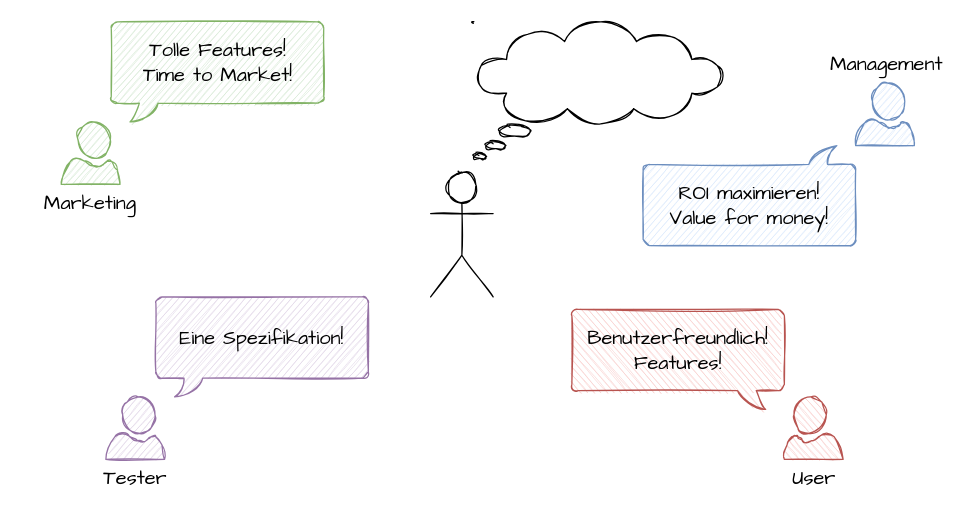
Some shapes in this 976 by 519 pixel diagram are drawn without their labels. The centre of each missing label's shape, as x and y in pixels:
"Entwickler" belongs at point (461, 234).
"Monaden ... bind ... Einheitsfunktion" belongs at point (597, 90).
